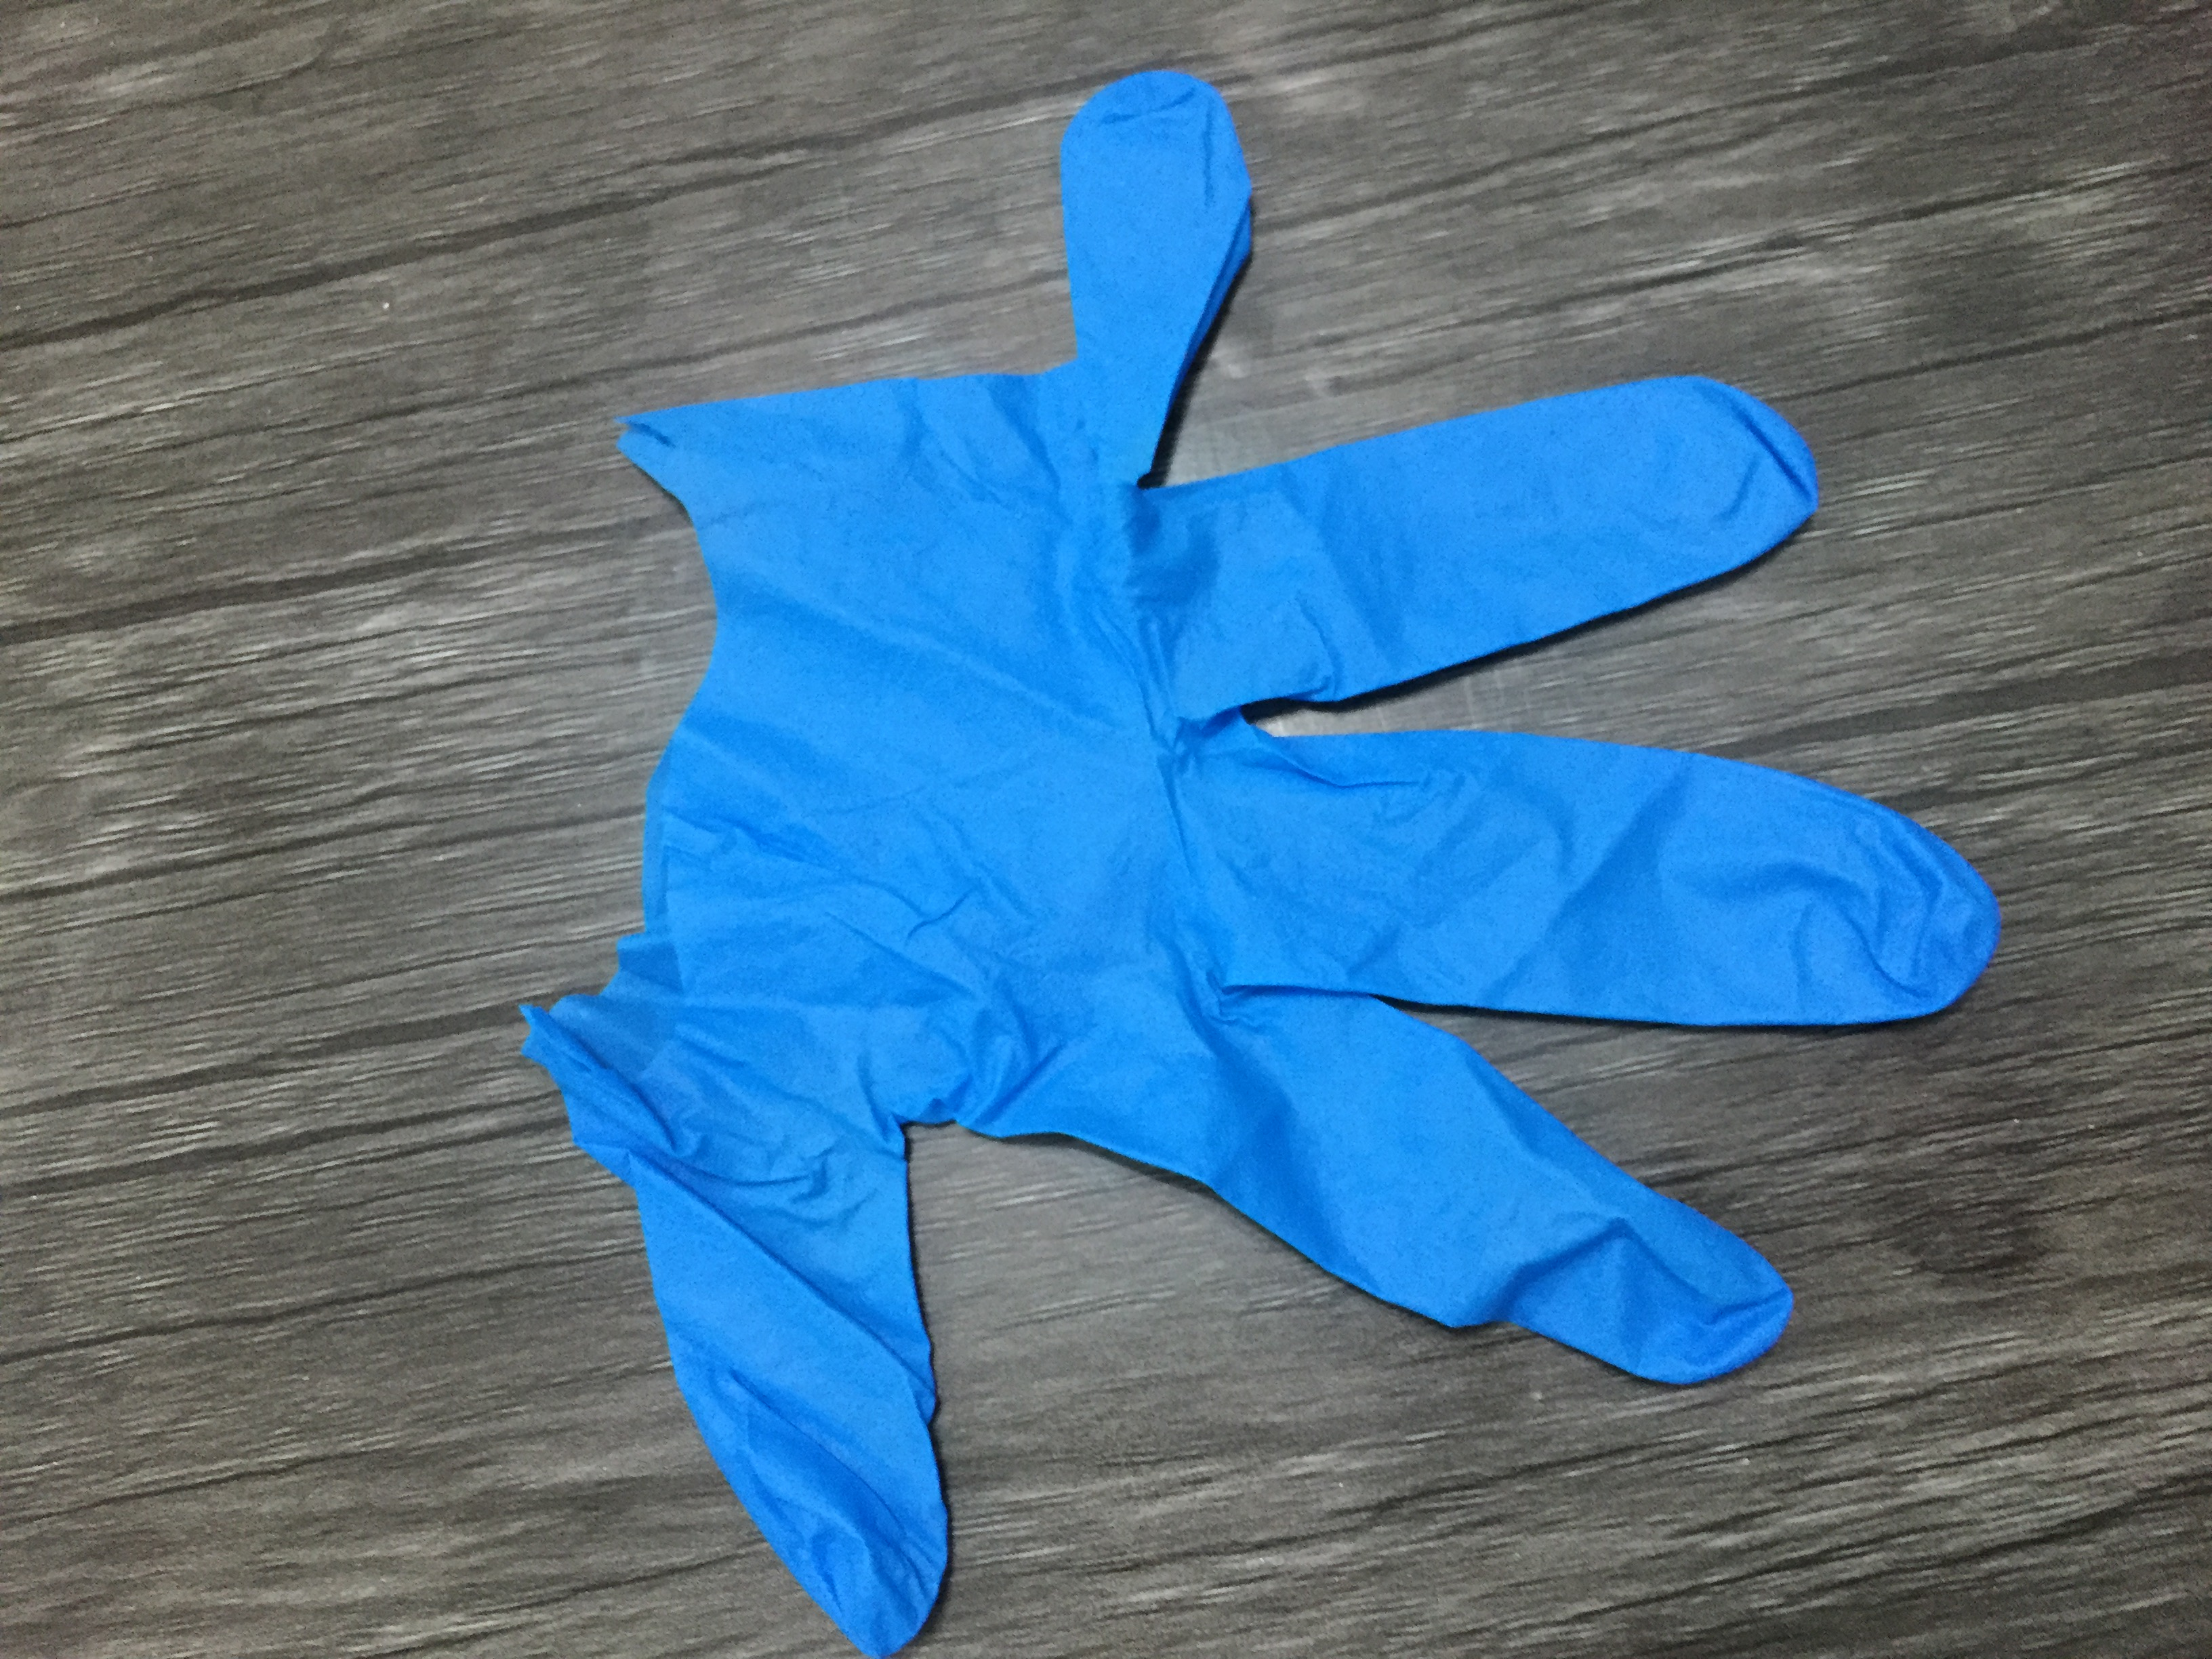defected: (559, 64, 2010, 1659)
